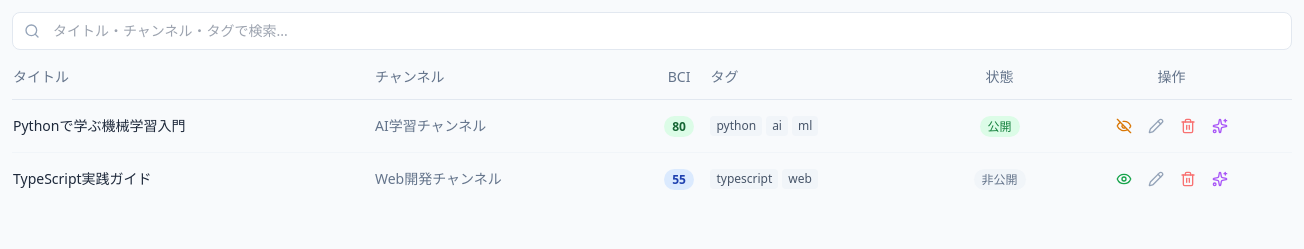
VideoTable › 検索フィルタリング › マッチしない検索語では空状態を表示する
In the field labelled "タイトル・チャンネル・タグで検索": x=652, y=31 [12, 12, 1292, 50], type "存在しないキーワード12345"
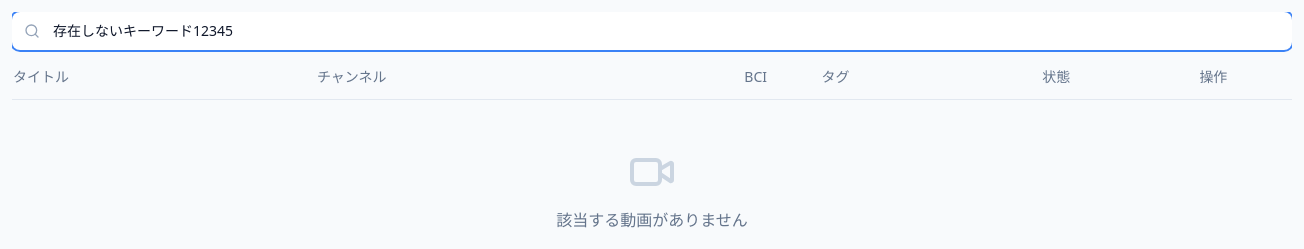
Expected: the text "該当する動画がありません" is shown, [556, 208, 748, 232]
